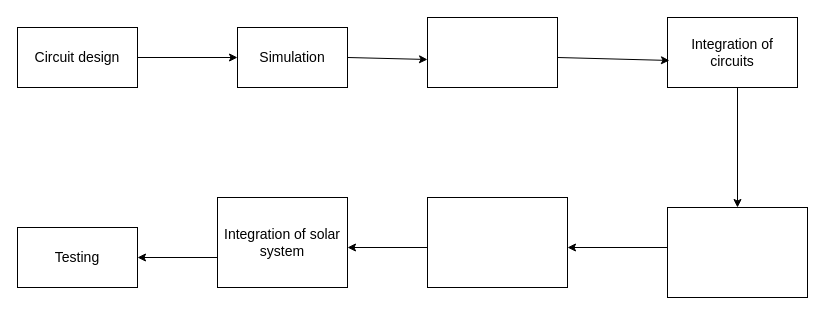
The diagram is 825 pixels wide and 315 high, and some of its shapes have lost their labels. Each missing label, with the centre of its shape:
"Circuit modification" goes at pixel 492 52.
"PCB printing and component placement" goes at pixel 497 242.
"Schematic to PCB conversion" goes at pixel 737 252.
